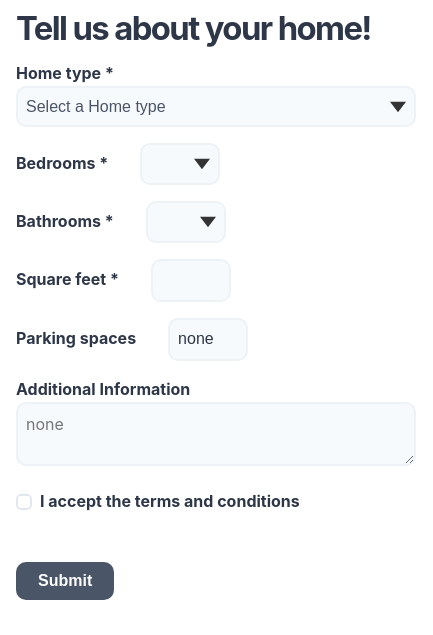
Test: Home listing form tests › Submitting an incomplete form throws an error
Step 1. Click the button "Submit" → coordinates (65, 581), box [16, 562, 114, 600]
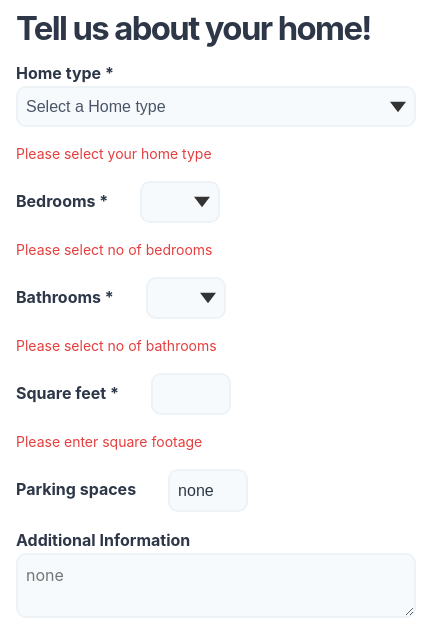
Expected: the text "Please select your home type" is shown, [16, 145, 212, 162]
